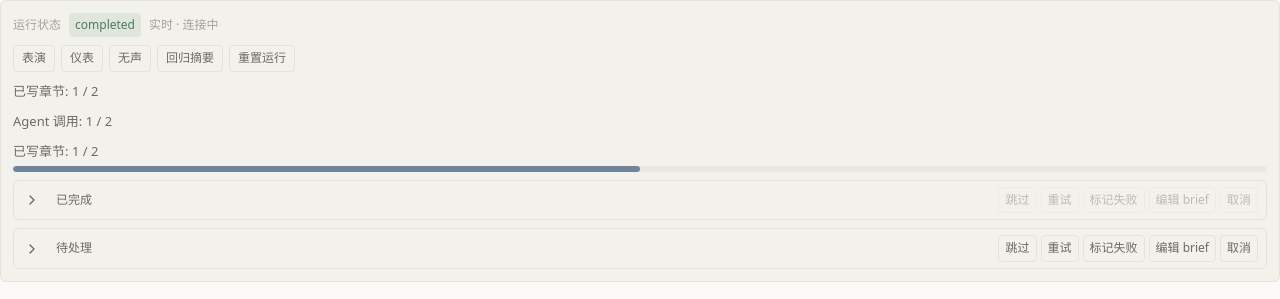
Scenario: BookRunPanel — 阶段4 干预工具栏 + 密度切换 + 摘要面板 + diff banner（#338 S4b） › 点 run-density-silent → store.density=silent + run-progress-list 消失（走真实 store.setDensity）
Expected: the element with test id "run-progress-list" is shown, [13, 180, 1267, 269]
Click the button with test id "run-density-silent".
click(130, 59)  # box [109, 45, 151, 72]
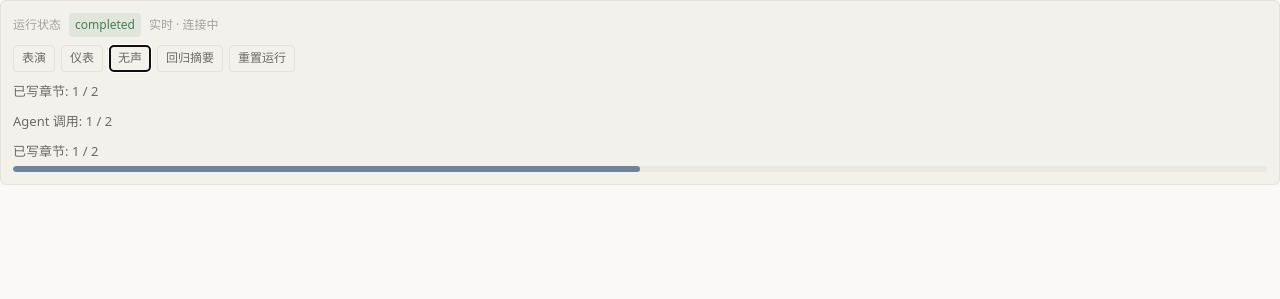
Now the element with test id "run-progress-list" is gone
